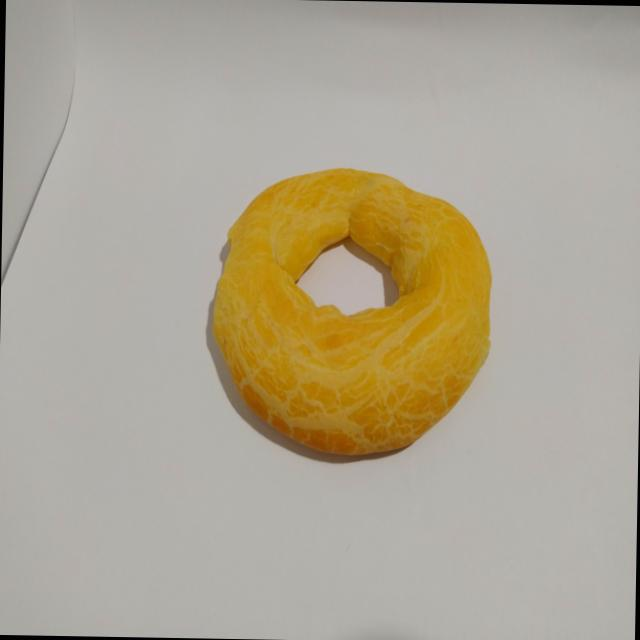Chipa: (197, 153, 498, 474)
